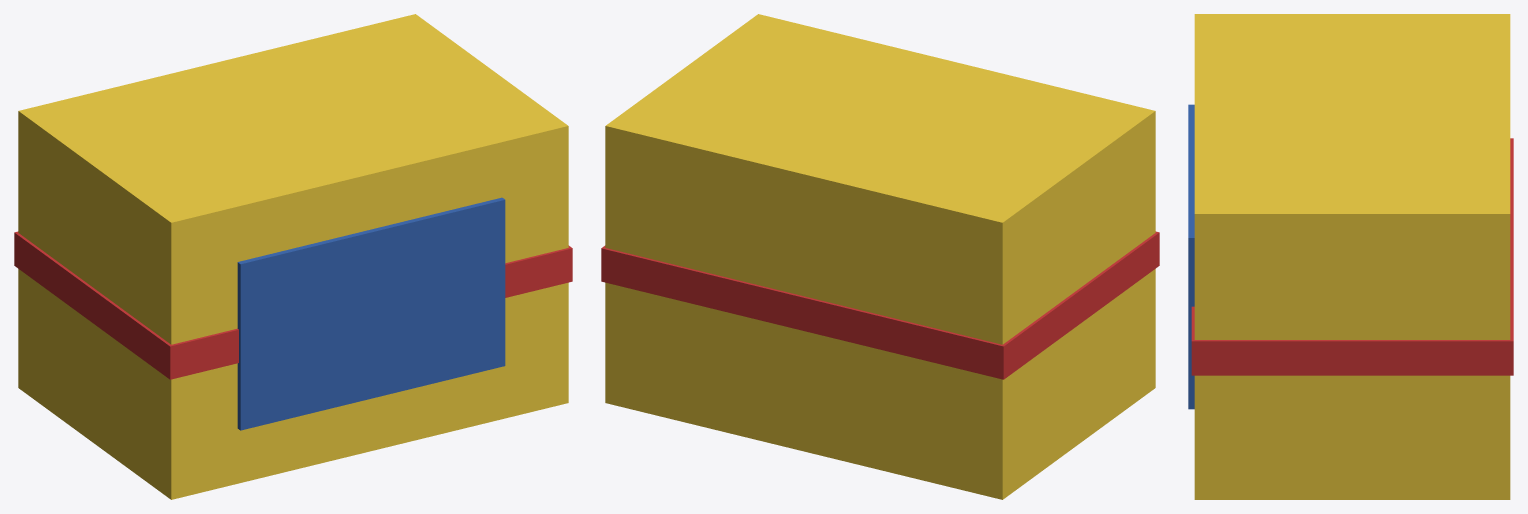
File: fake_labels.glb
3 views of the same model, side by side, from view 1: azimuth 30°, elevation 25°; view 2: azimuth 150°, elevation 25°; view 3: azimuth 270°, elevation 25° (orthographic). The views are drawn at different scales.
Visible parts, largest first — view 1: stack_label_yellow, print_label_blue, band_rubber_band; view 2: stack_label_yellow, band_rubber_band; view 3: stack_label_yellow, band_rubber_band, print_label_blue.
Part boxes in pixels (bbox=[...]): stack_label_yellow: bbox=[18, 14, 568, 499]; print_label_blue: bbox=[237, 197, 505, 430]; band_rubber_band: bbox=[14, 231, 572, 379]; stack_label_yellow: bbox=[605, 14, 1155, 499]; band_rubber_band: bbox=[601, 231, 1159, 379]; stack_label_yellow: bbox=[1194, 14, 1510, 499]; band_rubber_band: bbox=[1191, 138, 1513, 375]; print_label_blue: bbox=[1188, 104, 1194, 409].
Bounding box in the file's own units: 0.152 × 0.1 × 0.103.
